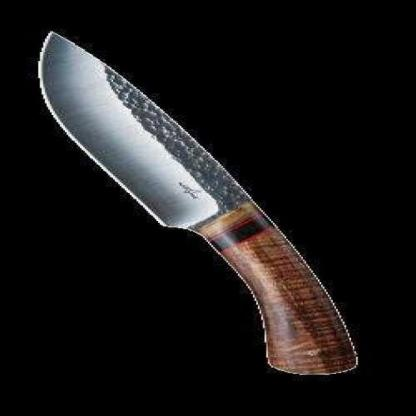Knife: (21, 21, 380, 384)
